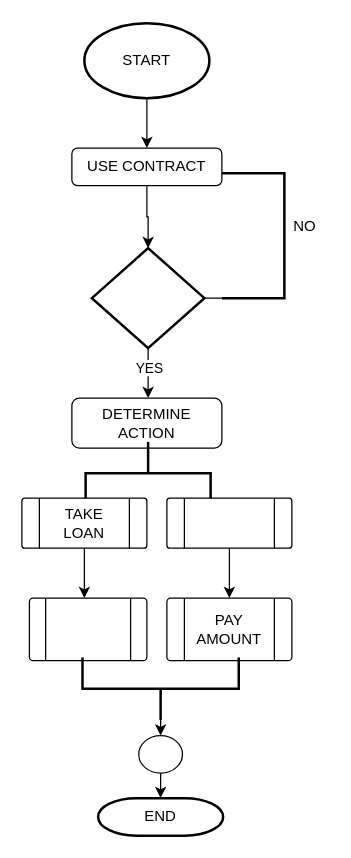
This 351x858 diagram has some shape labels left out. Each missing label, with the centre of its shape:
ENTER AMOUNT: pixel 87 629
OWN NFT?: pixel 147 297
PAY LOAN: pixel 229 522
